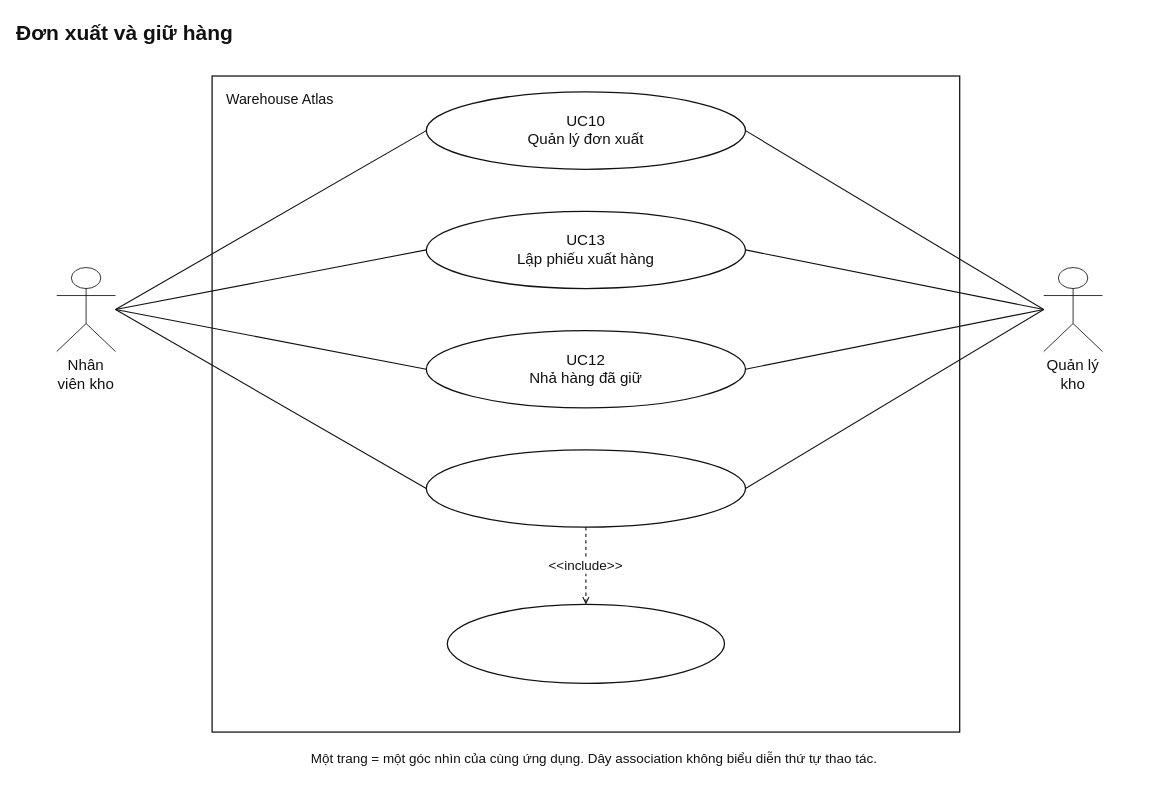
The diagram is 1171 pixels wide and 794 high, and some of its shapes have lost their labels. Each missing label, with the centre of its shape:
"SF03 Xác định lô đủ điều kiện" belongs at (585,643).
"UC11 Giữ hàng cho đơn" belongs at (585,488).
